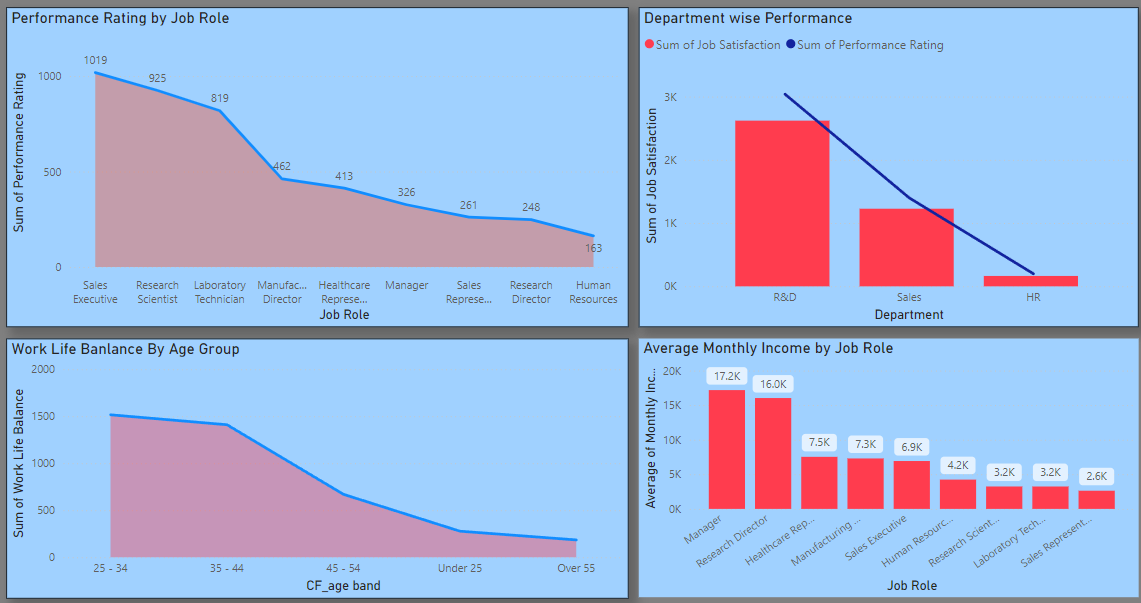

This screenshot's page, from the dashboard's own definition file:
{"tool":"powerbi","page":{"name":"Trends","canvas":[1280,720],"ordinal":1},"visuals":[{"type":"shape","title":"HR Analytics Dashboard","box":[0,0,1280.3,42.5],"z":0},{"type":"lineChart","title":"Performance Rating by Job Role","fields":{"Y":["Sum(HR data.Performance Rating)"],"Category":["HR data.Job Role"]},"box":[17.8,61.7,683.4,351.3],"z":1},{"type":"lineStackedColumnComboChart","title":"Department wise Performance ","fields":{"Category":["HR data.Department"],"Y":["Sum(HR data.Job Satisfaction)"],"Y2":["Sum(HR data.Performance Rating)"]},"box":[712.2,61.7,548.9,351.3],"z":2},{"type":"areaChart","title":"Work Life Banlance By Age Group ","fields":{"Category":["HR data.CF_age band"],"Y":["Sum(HR data.Work Life Balance)"]},"box":[17.8,425.4,683.4,285.4],"z":3},{"type":"lineStackedColumnComboChart","title":"Average Monthly Income by Job Role","fields":{"Category":["HR data.Job Role"],"Y":["Avg(HR data.Monthly Income)"]},"box":[712.2,425.4,548.9,284],"z":4}]}

Visuals, with their boxes in screenshot pixels (x1, y1, x2, y2):
"Performance Rating by Job Role" lineChart: 19 16 626 328
"Department wise Performance " lineStackedColumnComboChart: 635 16 1123 328
"Work Life Banlance By Age Group " areaChart: 19 339 626 593
"Average Monthly Income by Job Role" lineStackedColumnComboChart: 635 339 1123 591
